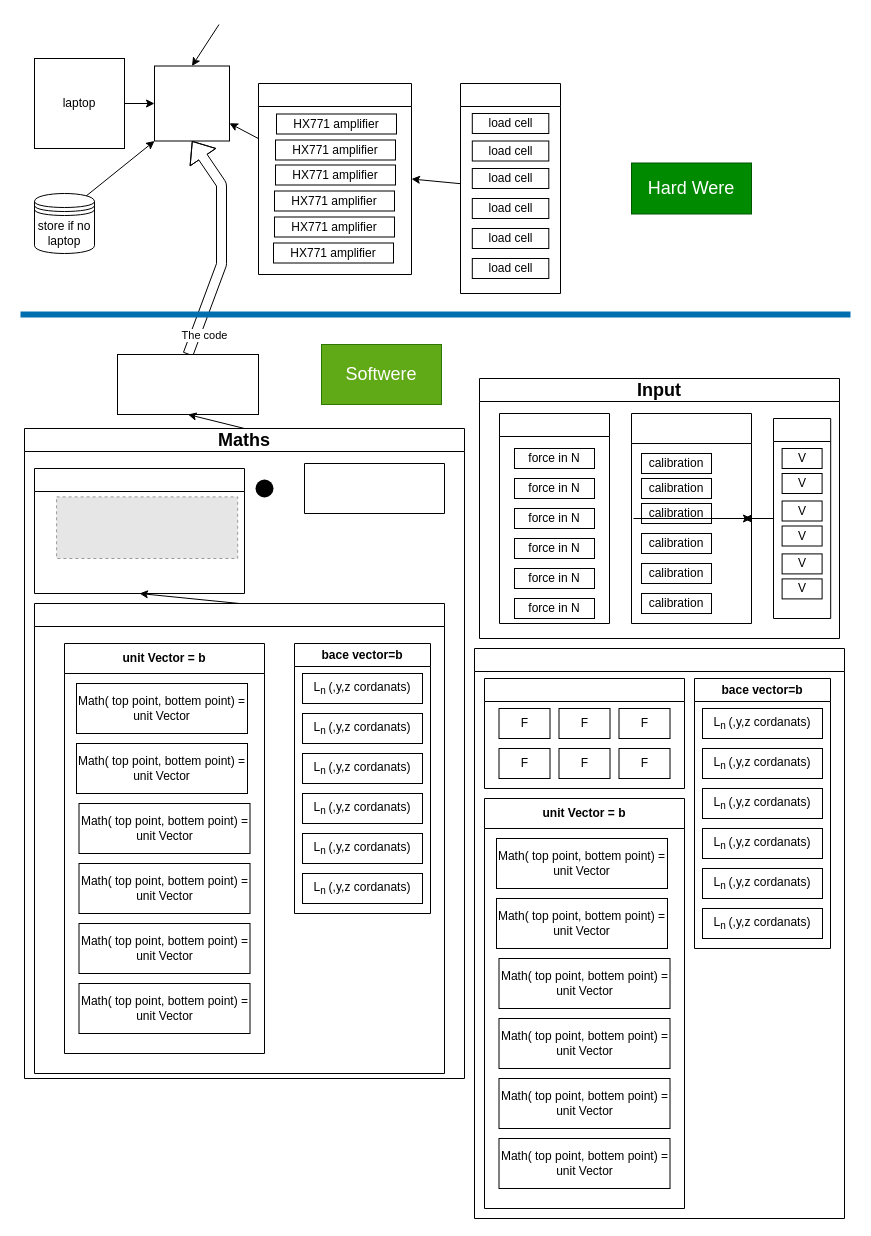
Image size: 871x1236. Some labels were removed from this diagram. Grey dashed boxes stand in for pictures. Here are the shapes that lost their labels. From the top down, the box of each, then its label:
(154, 65, 230, 141): ardwino mega
(258, 82, 412, 274): R to V brake out bord X 6
(460, 82, 560, 294): load cell X 6
(116, 354, 258, 414): 6D force vector
(304, 462, 444, 514): force vector
(34, 468, 244, 594): H = tranfor matrix
(498, 412, 610, 624): Force in N X 6
(630, 412, 752, 624): Manual or fancy algorithm
(772, 418, 831, 618): V X 6
(484, 678, 684, 788): Forces
(34, 602, 444, 1074): Parameters T matrix
(474, 648, 844, 1218): Parameters for fword kin
